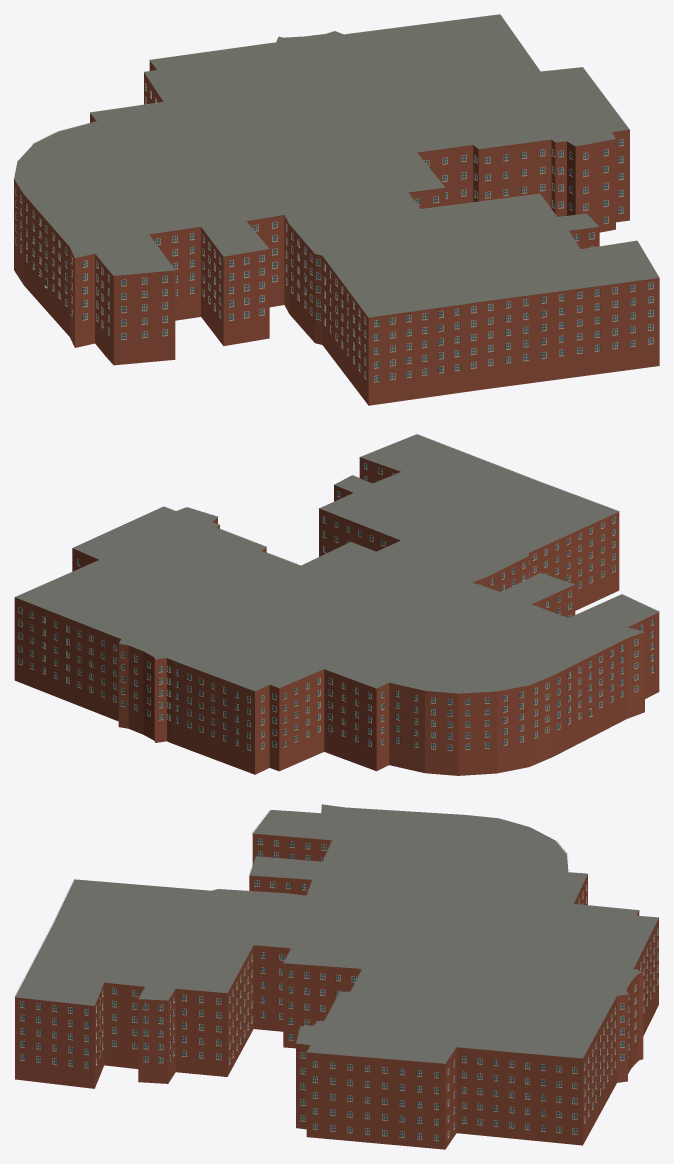
3 renders of one model, top to bottom at view 1: azimuth 30°, elevation 25°; view 2: azimuth 150°, elevation 25°; view 3: azimuth 270°, elevation 25°, orthographic. The views are drawn at different scales.
Parts seen in each view (by area): view 1: -1_3_419637252_0; view 2: -1_3_419637252_0; view 3: -1_3_419637252_0.
Part boxes in pixels (x1,y1,x2,y2): -1_3_419637252_0: (14, 14, 659, 405); -1_3_419637252_0: (14, 434, 659, 775); -1_3_419637252_0: (15, 804, 658, 1149).
Size of the model in its own units: 174 by 27.08 by 182.
